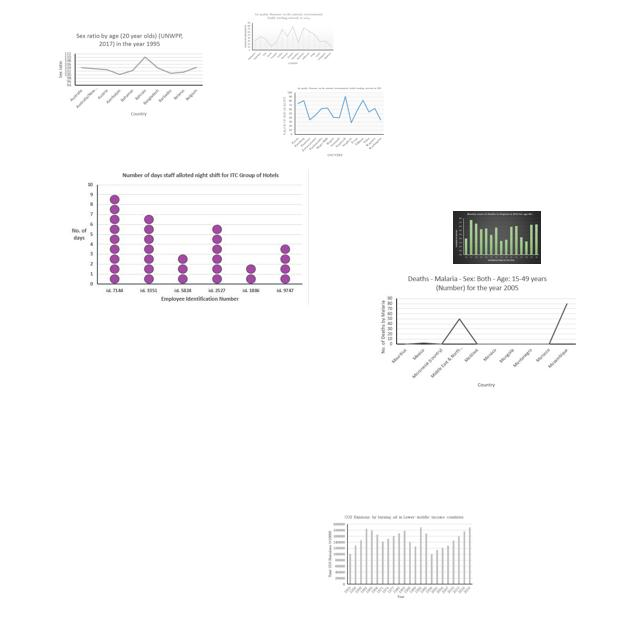Graph: (65, 169, 309, 305), (376, 272, 579, 390), (54, 30, 205, 118), (326, 513, 475, 601), (281, 85, 386, 160), (242, 11, 335, 66), (453, 211, 541, 264)
